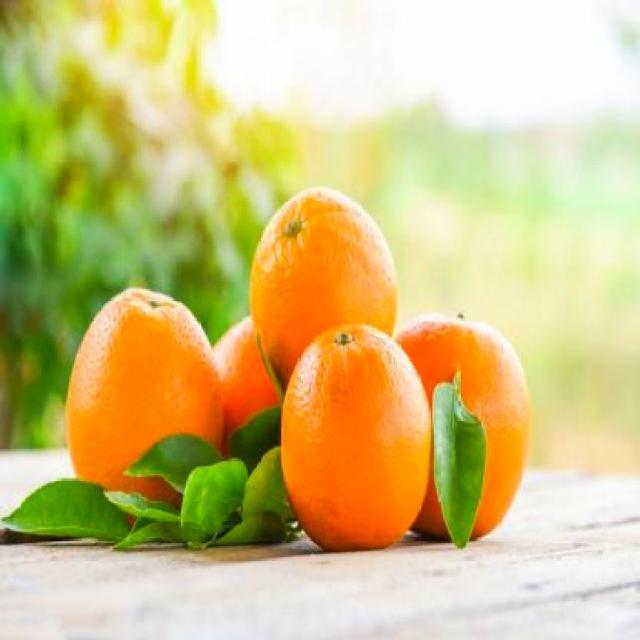Jeruk Sudah Matang: (66, 286, 226, 519), (383, 310, 532, 542), (285, 323, 430, 551), (246, 187, 399, 390), (192, 304, 328, 520)
